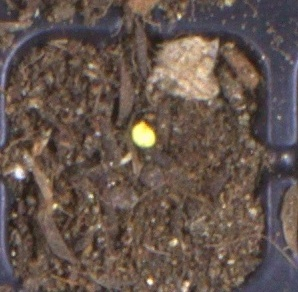chilli seed: (130, 121, 156, 148)
